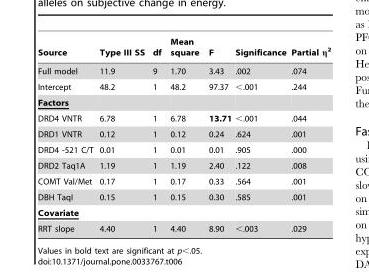table: (37, 37, 330, 232)
table column: (37, 37, 95, 232), (232, 37, 288, 232), (95, 37, 148, 232), (288, 37, 330, 232), (165, 37, 203, 232), (203, 37, 232, 232), (148, 37, 165, 232)
table column header: (37, 37, 330, 61)
table projected row header: (37, 94, 330, 110), (37, 204, 330, 220)
table row: (37, 37, 330, 61), (37, 61, 330, 78), (37, 78, 330, 94), (37, 94, 330, 110), (37, 110, 330, 126), (37, 141, 330, 157), (37, 157, 330, 173), (37, 173, 330, 189), (37, 204, 330, 220), (37, 126, 330, 141), (37, 189, 330, 204), (37, 220, 330, 232)
